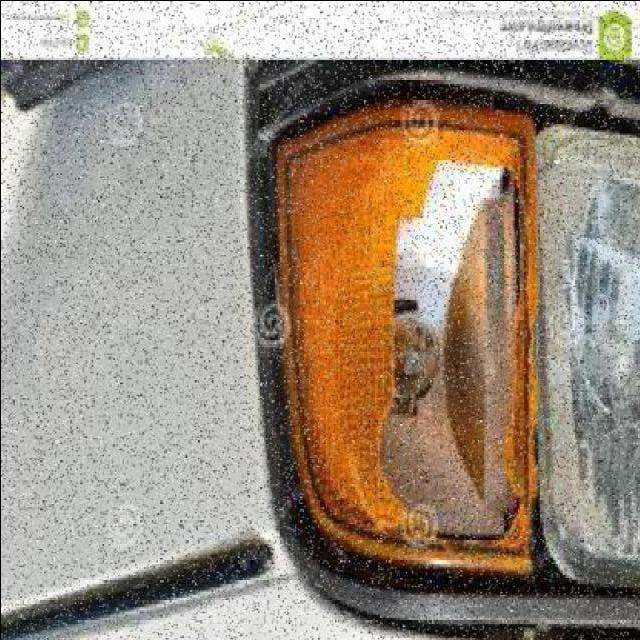Signlight-Damage: (247, 79, 557, 603)
Taillight-Damage: (246, 93, 640, 637)
